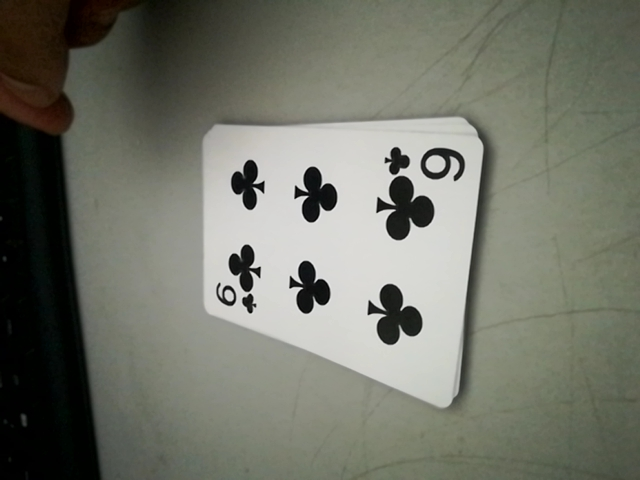mh 6: (388, 141, 470, 182), (209, 280, 260, 321)
